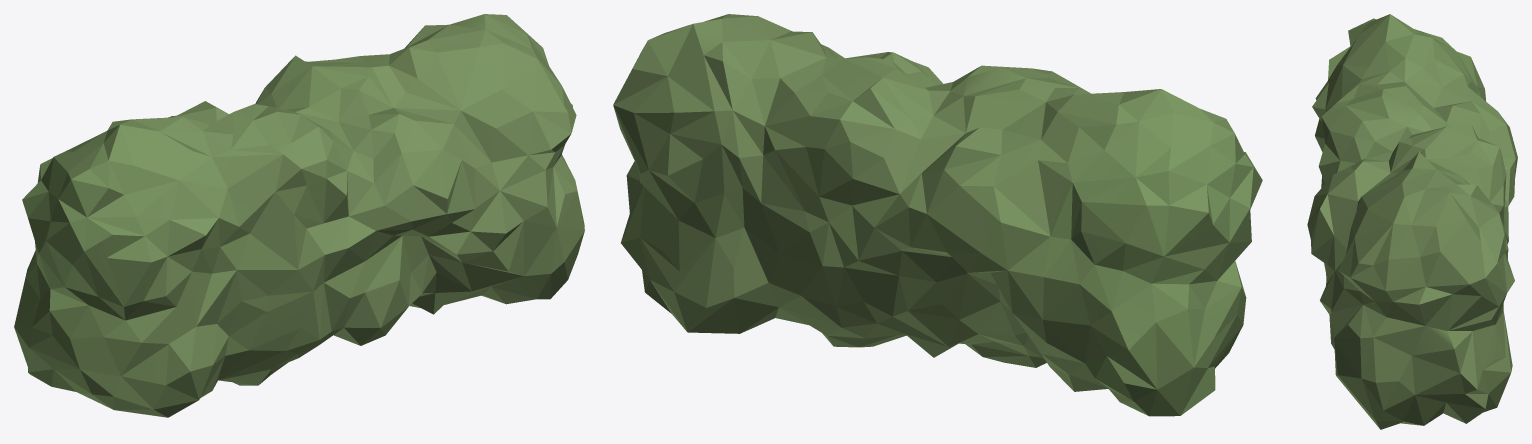
The model's file is elven_SM_Env_Hedge_Shrub_03.gltf.
3 renders of one model, left to right at view 1: azimuth 30°, elevation 25°; view 2: azimuth 150°, elevation 25°; view 3: azimuth 270°, elevation 25°, orthographic. The views are drawn at different scales.
Visible parts, largest first — view 1: SM_Env_Hedge_Shrub_03; view 2: SM_Env_Hedge_Shrub_03; view 3: SM_Env_Hedge_Shrub_03.
Boxes of the visible parts, bbox=[...] form: SM_Env_Hedge_Shrub_03: bbox=[14, 14, 584, 417]; SM_Env_Hedge_Shrub_03: bbox=[613, 14, 1262, 416]; SM_Env_Hedge_Shrub_03: bbox=[1307, 14, 1517, 429].
Size of the model in its own units: 2.85 by 1.6 by 1.18.
Materials: 1 (1 with a texture image).
